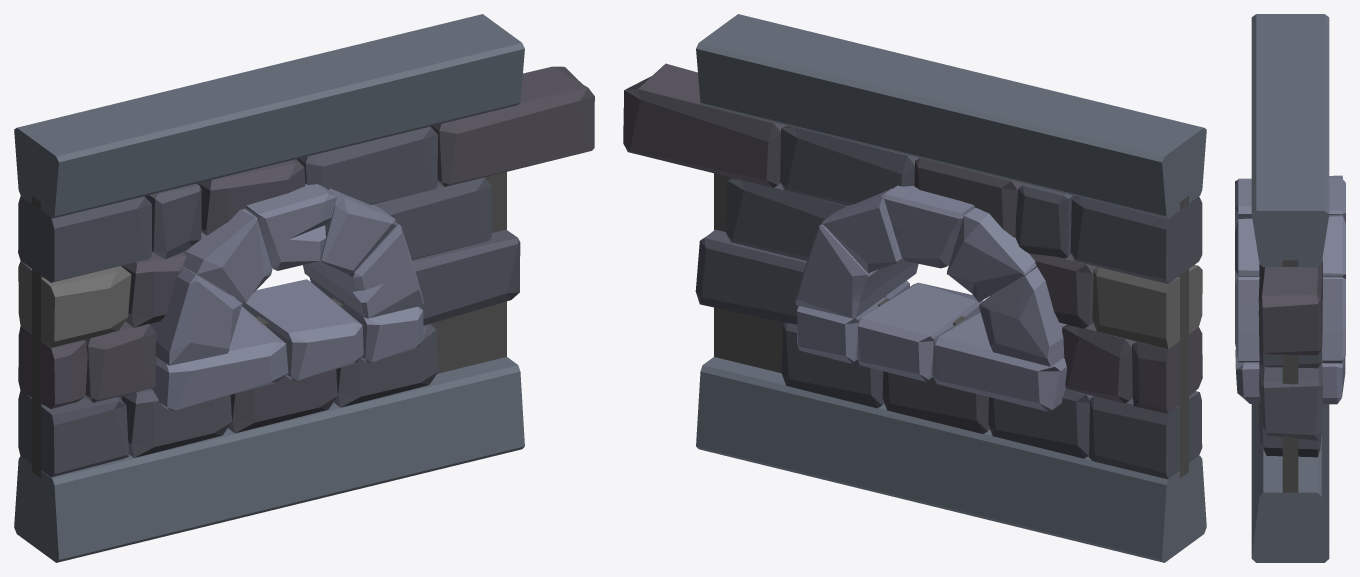
File: Brick_Wall_Window_Right.fbx
3 views of the same model, side by side, from view 1: azimuth 30°, elevation 25°; view 2: azimuth 150°, elevation 25°; view 3: azimuth 270°, elevation 25° (orthographic). The views are drawn at different scales.
Parts seen in each view (by area): view 1: Muro_Ventana_Ladrillo_Der; view 2: Muro_Ventana_Ladrillo_Der; view 3: Muro_Ventana_Ladrillo_Der.
Part boxes in pixels (x1,y1,x2,y2): Muro_Ventana_Ladrillo_Der: (14,14,594,562); Muro_Ventana_Ladrillo_Der: (623,14,1206,562); Muro_Ventana_Ladrillo_Der: (1235,14,1345,562).
Bounding box in the file's own units: 702 × 500 × 143.
